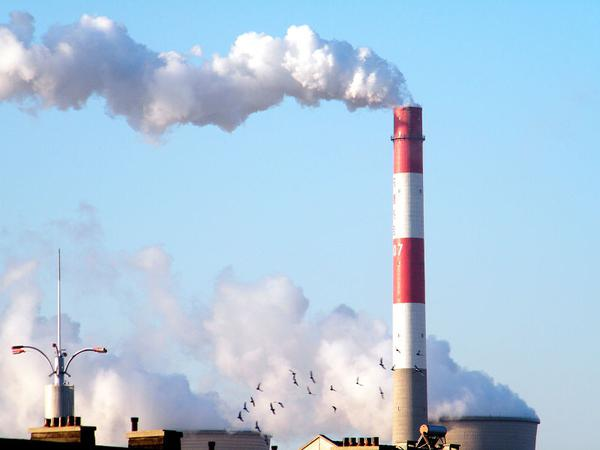dust: (180, 22, 432, 119)
